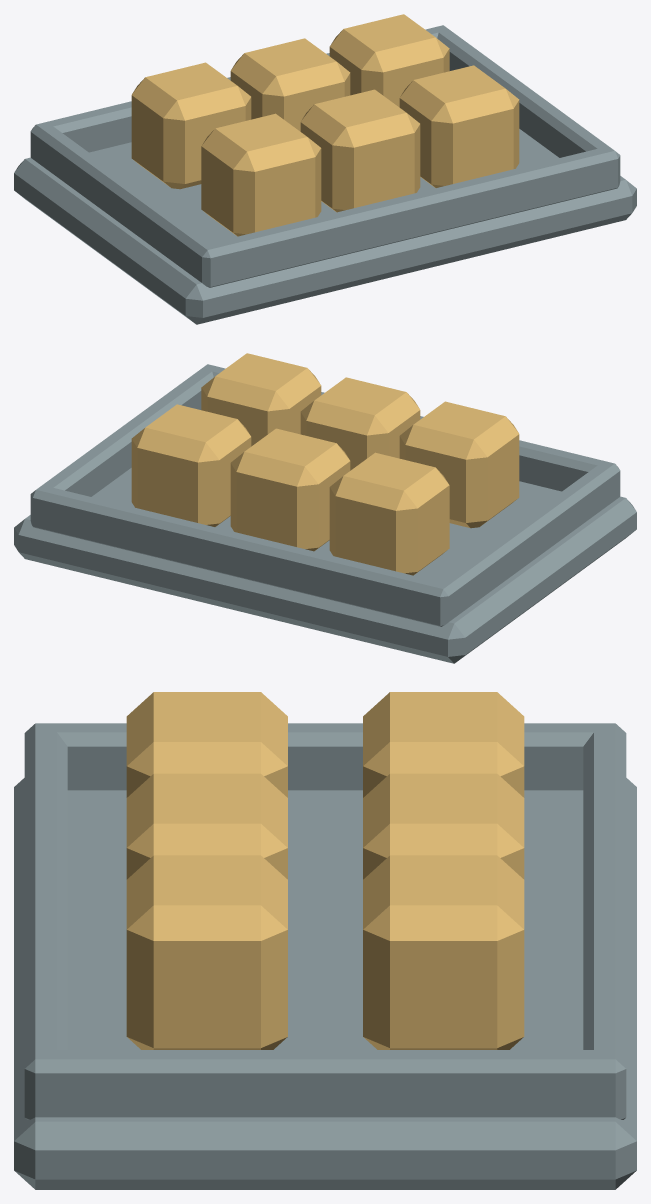
The model's file is farm_cornbread.glb.
3 views of the same model, one above another, from view 1: azimuth 30°, elevation 25°; view 2: azimuth 150°, elevation 25°; view 3: azimuth 270°, elevation 25° (orthographic). The views are drawn at different scales.
Visible parts, largest first — view 1: FTF_Dish_FarmCornbread_StaticMesh; view 2: FTF_Dish_FarmCornbread_StaticMesh; view 3: FTF_Dish_FarmCornbread_StaticMesh.
Part boxes in pixels (x1,y1,x2,y2): FTF_Dish_FarmCornbread_StaticMesh: [14, 14, 636, 324]; FTF_Dish_FarmCornbread_StaticMesh: [14, 353, 636, 663]; FTF_Dish_FarmCornbread_StaticMesh: [14, 692, 636, 1189].
Bounding box in the file's own units: 0.82 × 0.22 × 0.58.
